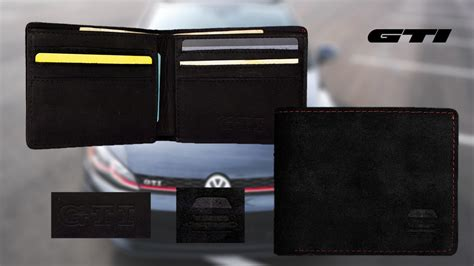gamuza: (271, 107, 460, 257)
